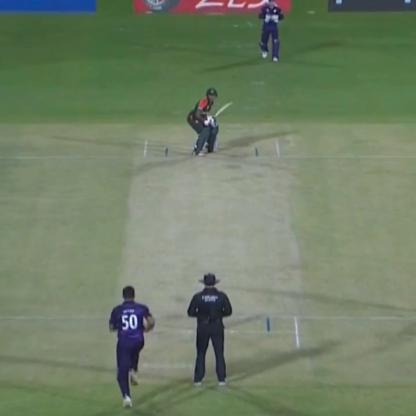bat: (206, 107, 235, 122)
pitch: (114, 130, 310, 366)
